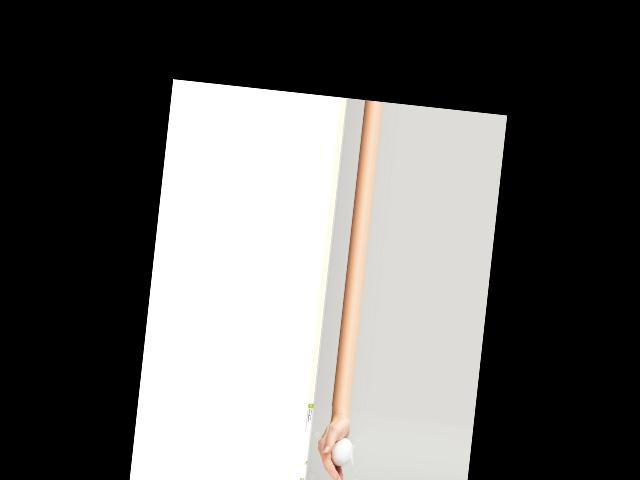egg: (329, 436, 352, 467)
